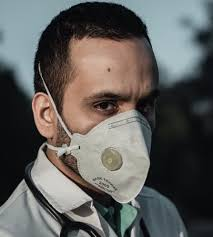mask: (53, 14, 159, 211)
